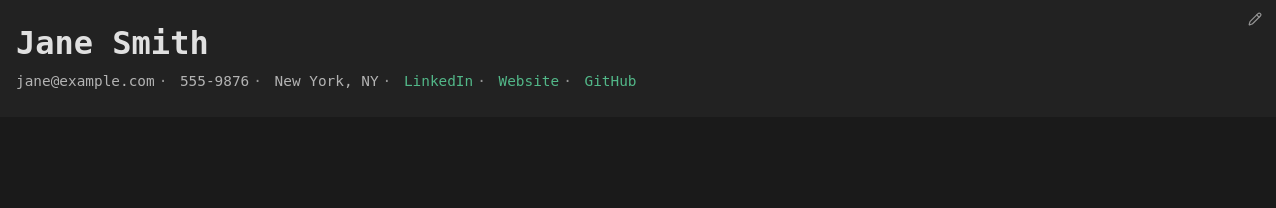
ContactSection (edit mode) › reverts to view mode on cancel without saving
This screenshot has width=1276, height=208.
Click the button named "edit" at point(1255, 19), box [1242,8,1268,30]
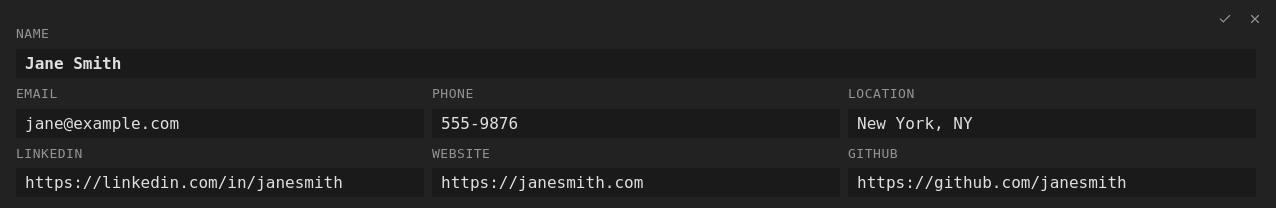
Replace the text in the field labelled "Name" with "Changed Name" at point(636, 63), box [16,49,1256,78]
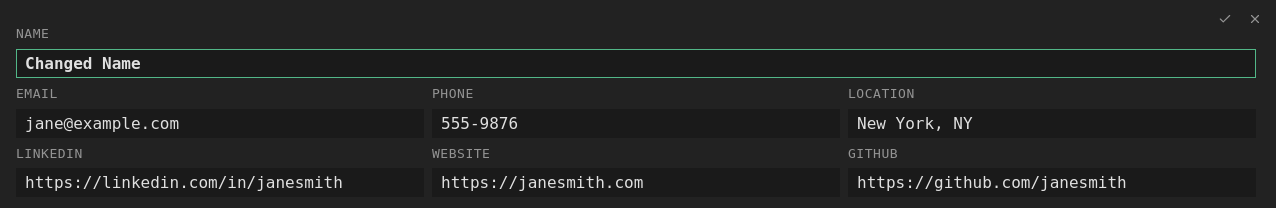
Click the button named "cancel" at point(1255, 19), box [1242,8,1268,30]
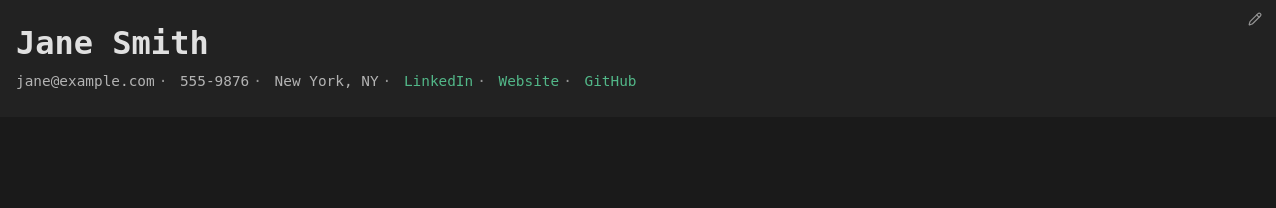
Expected: the heading "Jane Smith" is shown, [16,24,209,62]
Expected: the label labelled "Name" is gone
